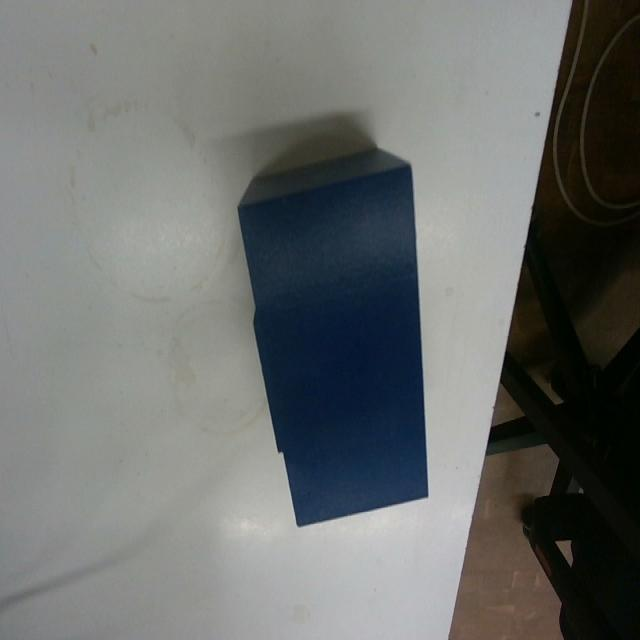Blue Cuboid: (235, 143, 431, 528)
